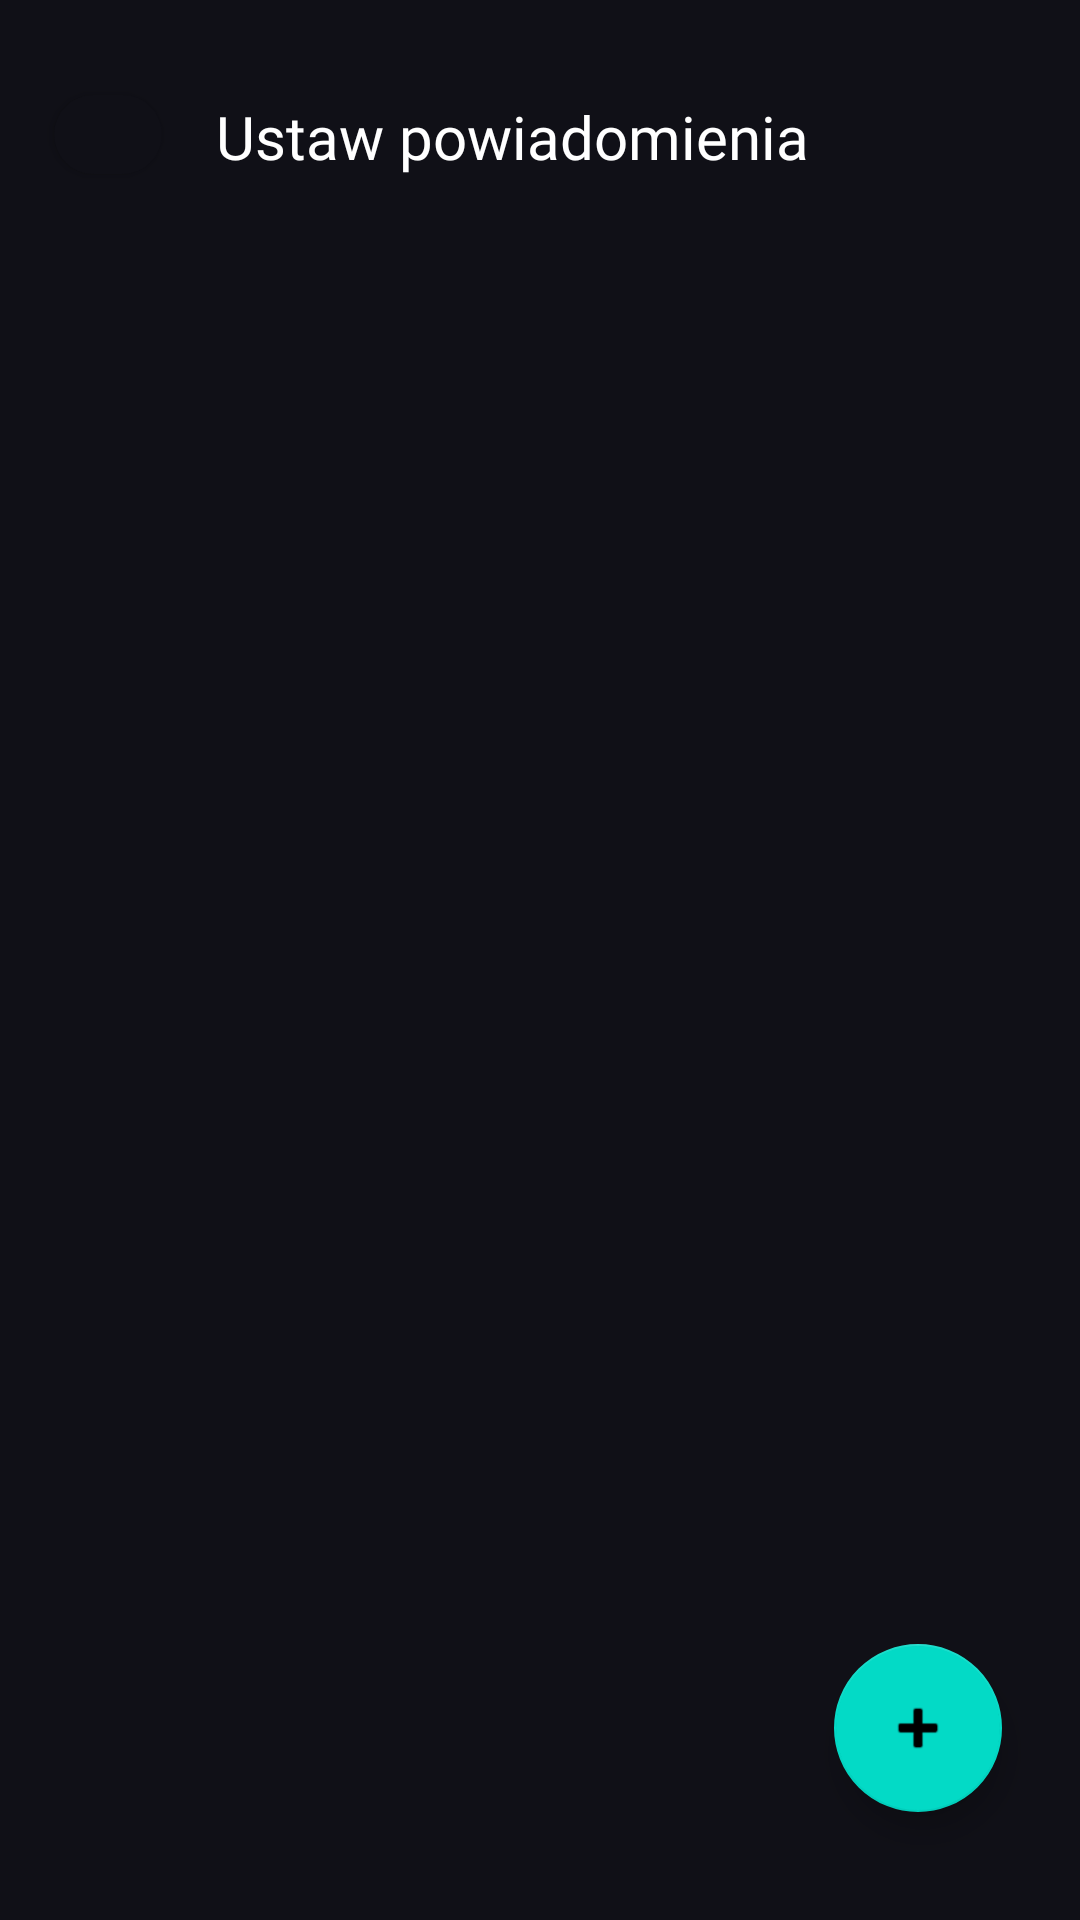

Point at icon controls on the screen. Image size 1080×1920, points as (x,y).
add: (918,1728)
